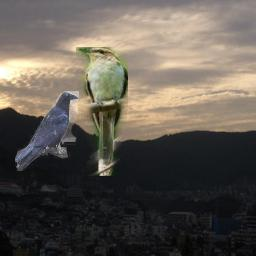Crow: (15, 91, 79, 171)
Cuckoo: (76, 47, 128, 176)
